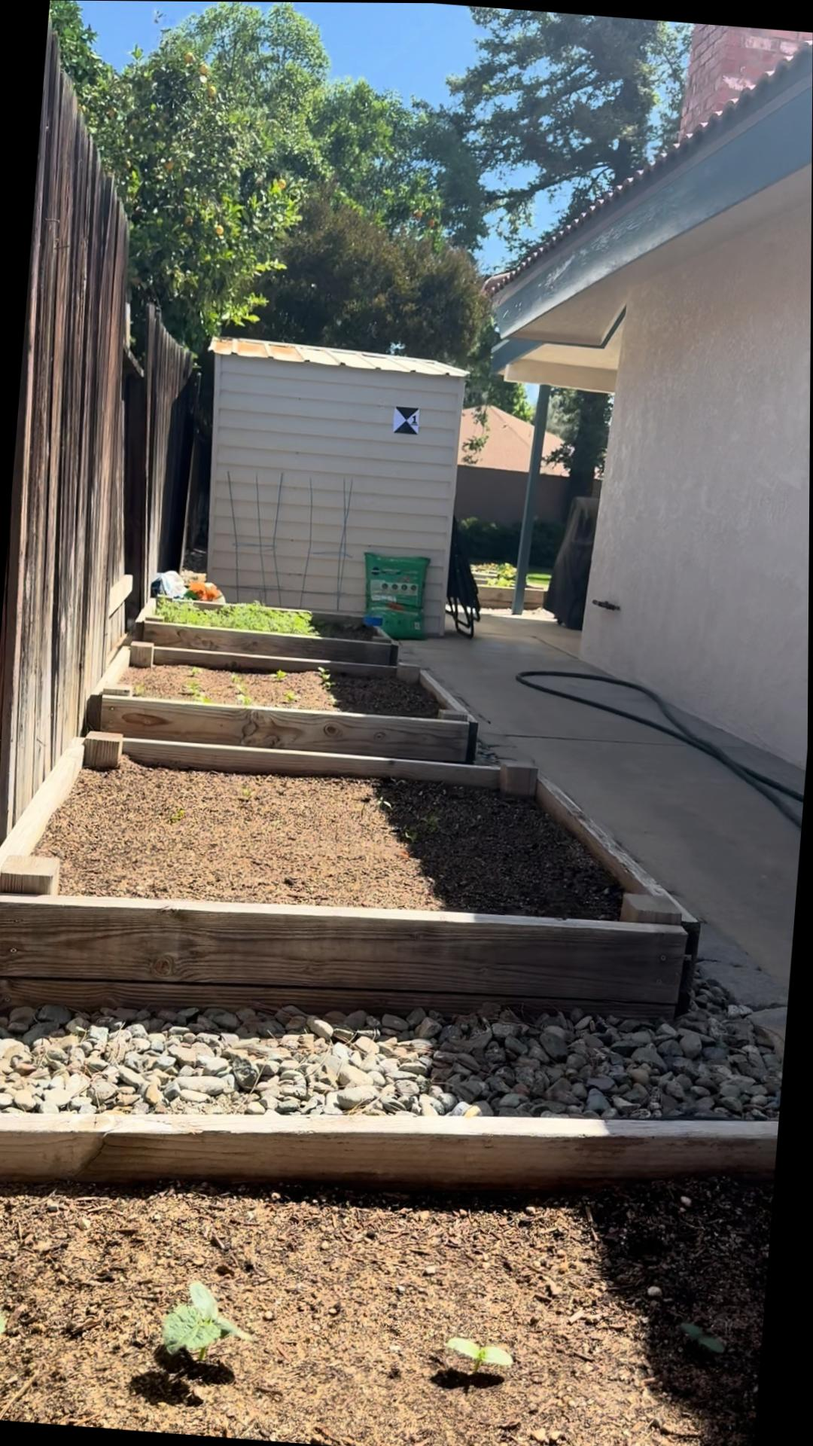target1: (388, 404, 425, 439)
